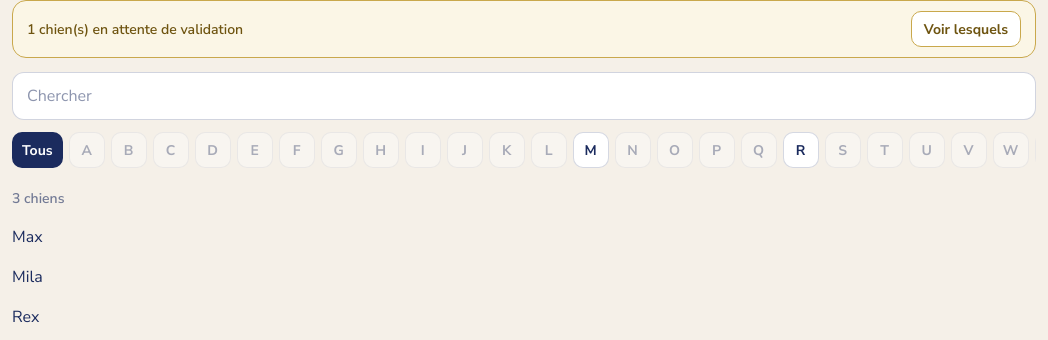
Test: la barre filtre pendant la frappe › tri alphabétique, compte, et recherche sans accent
Expected: the text "3 chiens" is shown, [12,189,64,208]
In the search field: x=524, y=96 [12,72,1036,120], type "elodie"
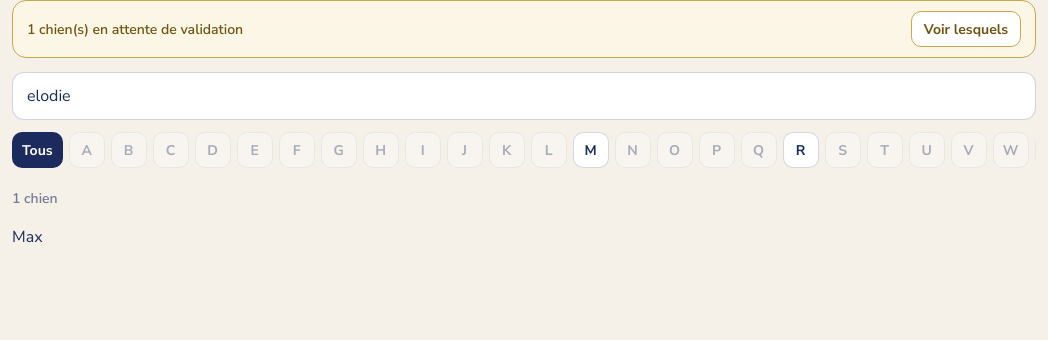
Now the text "1 chien" is shown, box [12,189,58,208]
